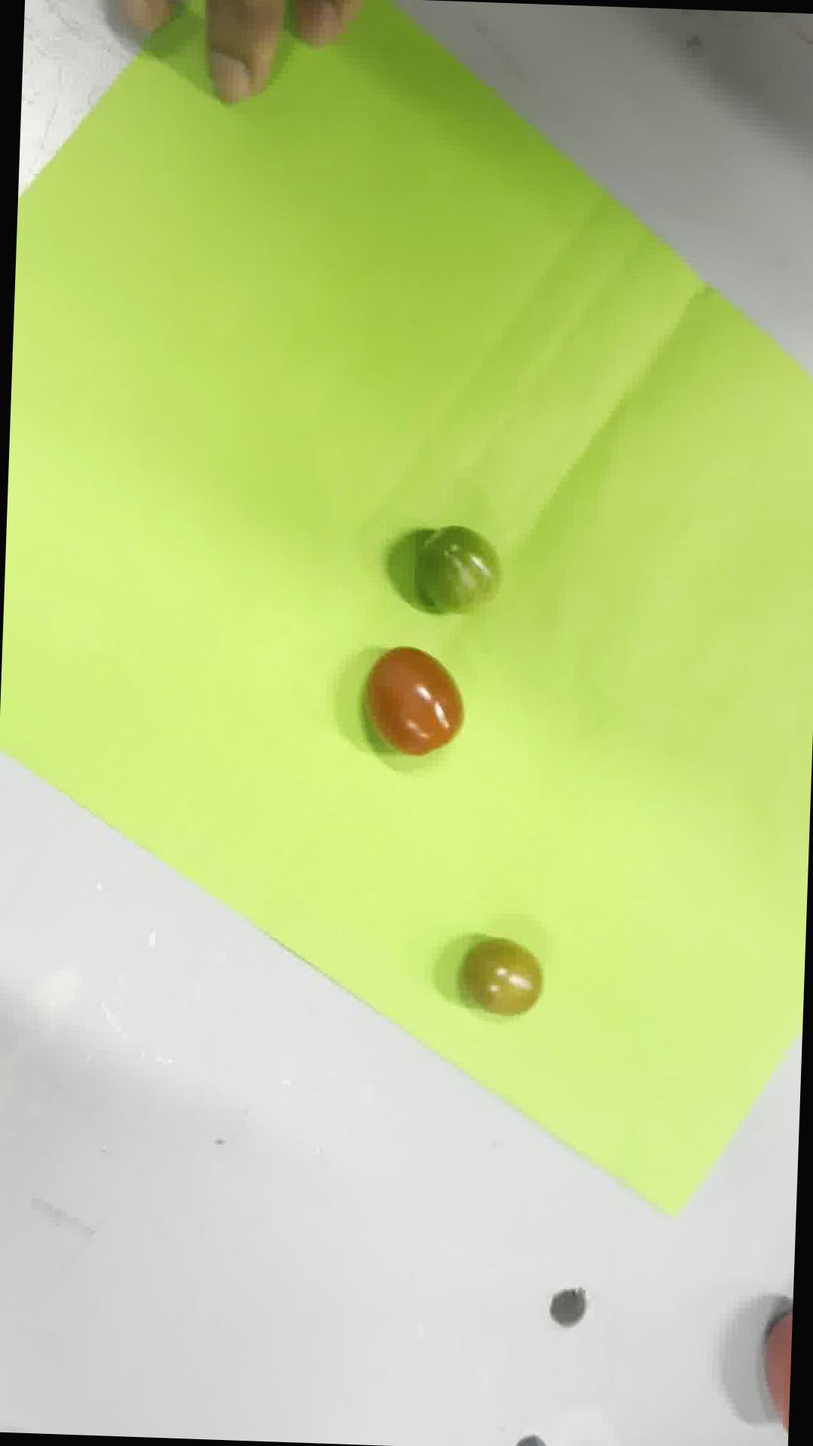green_cherry_tomato: (417, 526, 501, 613)
red_cherry_tomato: (365, 647, 464, 756)
yellow_cherry_tomato: (461, 937, 542, 1017)
